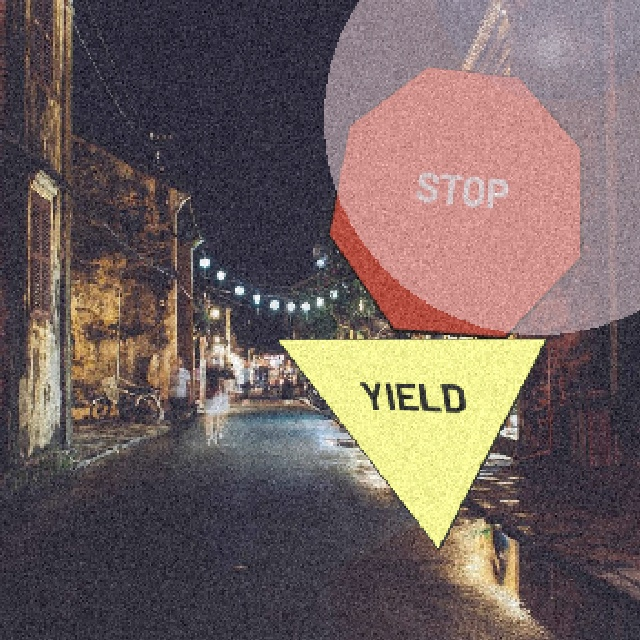STOP: (326, 64, 582, 338)
YIELD: (274, 336, 548, 550)
